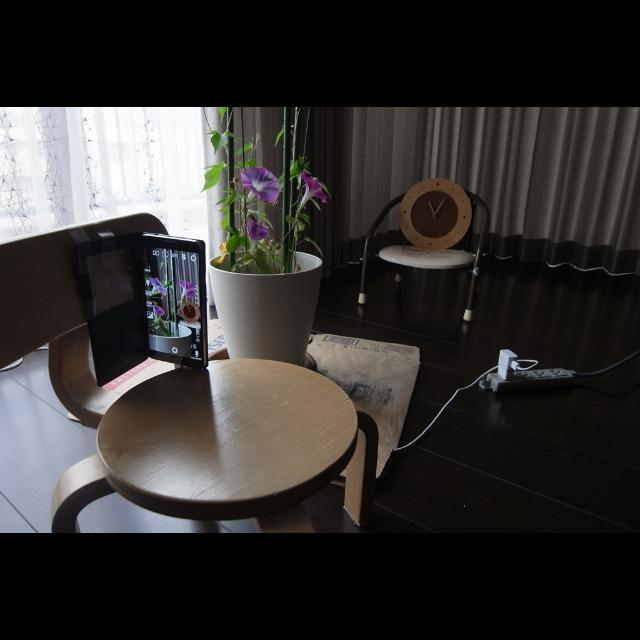Flower: (293, 168, 329, 220), (237, 163, 281, 205), (242, 212, 268, 240), (181, 283, 193, 309), (148, 276, 164, 294), (158, 298, 165, 320)
